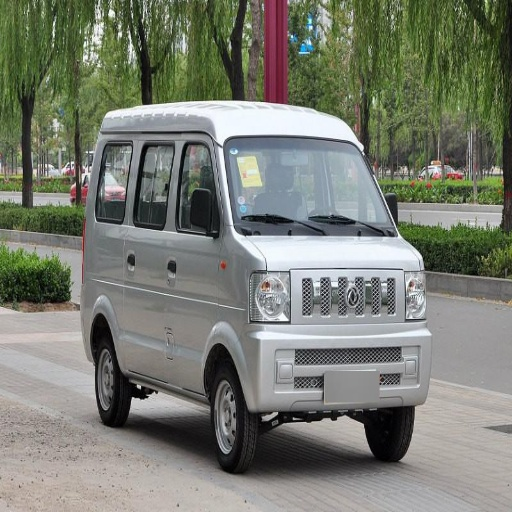front_bumper: (248, 268, 426, 410)
front_left_light: (374, 269, 426, 319)
front_right_door: (167, 136, 225, 286)
front_right_light: (252, 270, 290, 322)
trunk: (164, 280, 246, 386)
